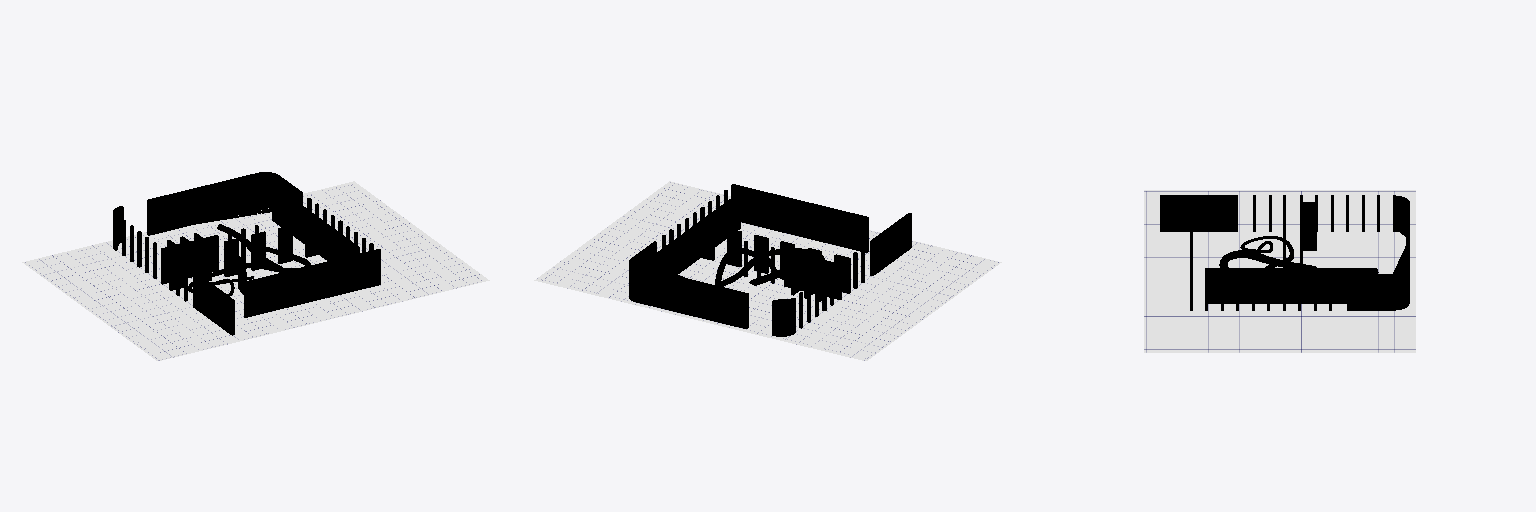
3 renders of one model, left to right at view 1: azimuth 30°, elevation 25°; view 2: azimuth 150°, elevation 25°; view 3: azimuth 270°, elevation 25°, orthographic.
Parts seen in each view (by area): view 1: A4.png, object_18, object_23, object_43, object_42, object_4, object_17, object_22, object_19, object_10, object_12; view 2: A4.png, object_18, object_23, object_43, object_42, object_25, object_4, object_22, object_10, object_19; view 3: A4.png, object_43, object_42, object_26, object_23, object_16, object_25.
Part boxes in pixels (x1,y1,x2,y2): A4.png: (22,181,489,360); object_18: (258,249,380,314); object_23: (163,172,279,231); object_43: (272,185,359,260); object_42: (193,272,234,335); object_4: (164,235,215,283); object_17: (188,247,310,295); object_22: (147,196,163,235); object_19: (244,279,258,317); object_10: (278,225,292,263); object_12: (224,238,238,276); A4.png: (534,181,1001,360); object_18: (731,184,854,249); object_23: (629,258,732,325); object_43: (653,193,740,274); object_42: (870,213,911,275); object_25: (772,298,795,336); object_4: (787,251,838,299); object_22: (732,290,748,328); object_10: (727,228,741,266); object_19: (854,214,868,252); A4.png: (1144,190,1415,352); object_43: (1205,268,1376,303); object_42: (1160,195,1237,231); object_26: (1347,274,1392,310); object_23: (1393,222,1409,310); object_16: (1219,250,1378,273); object_25: (1393,195,1409,236).
Bounding box in the file's own units: 14872 × 1678 × 10514.
Materials: 3 (1 with a texture image).